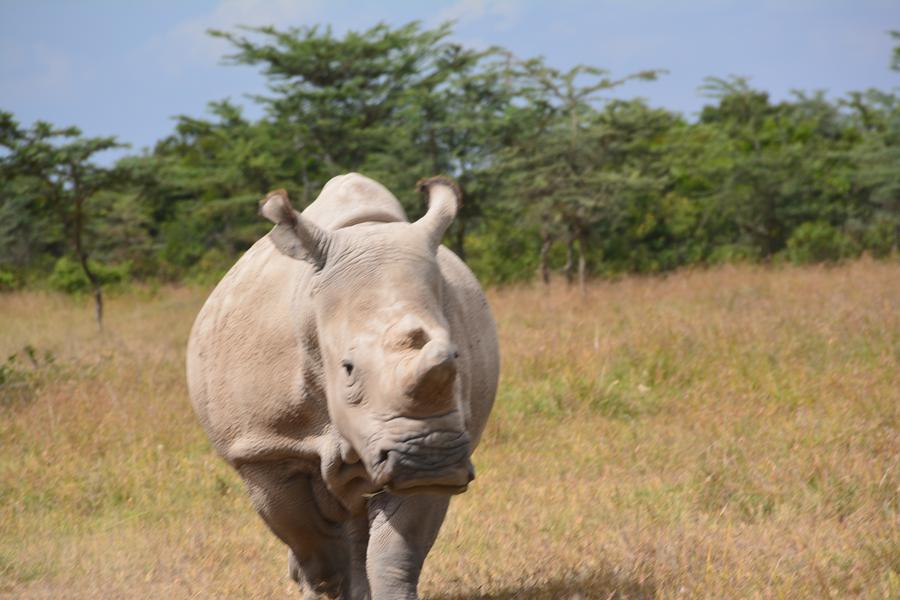rhino: (180, 179, 517, 568)
